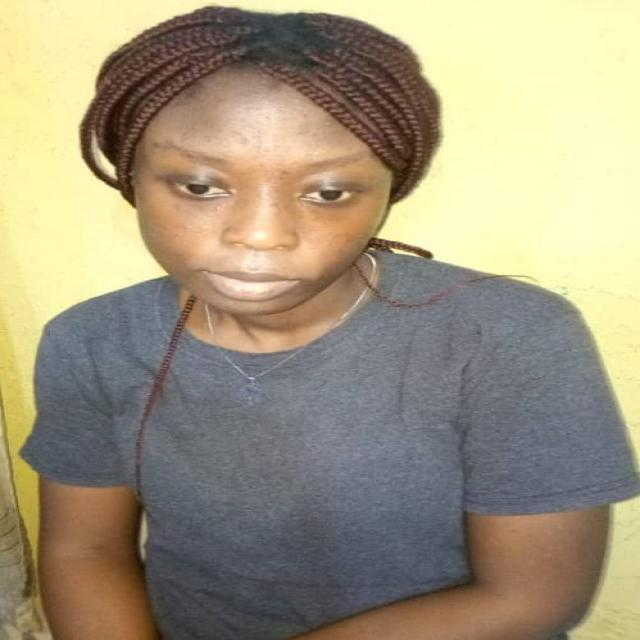sad: (102, 47, 408, 321)
